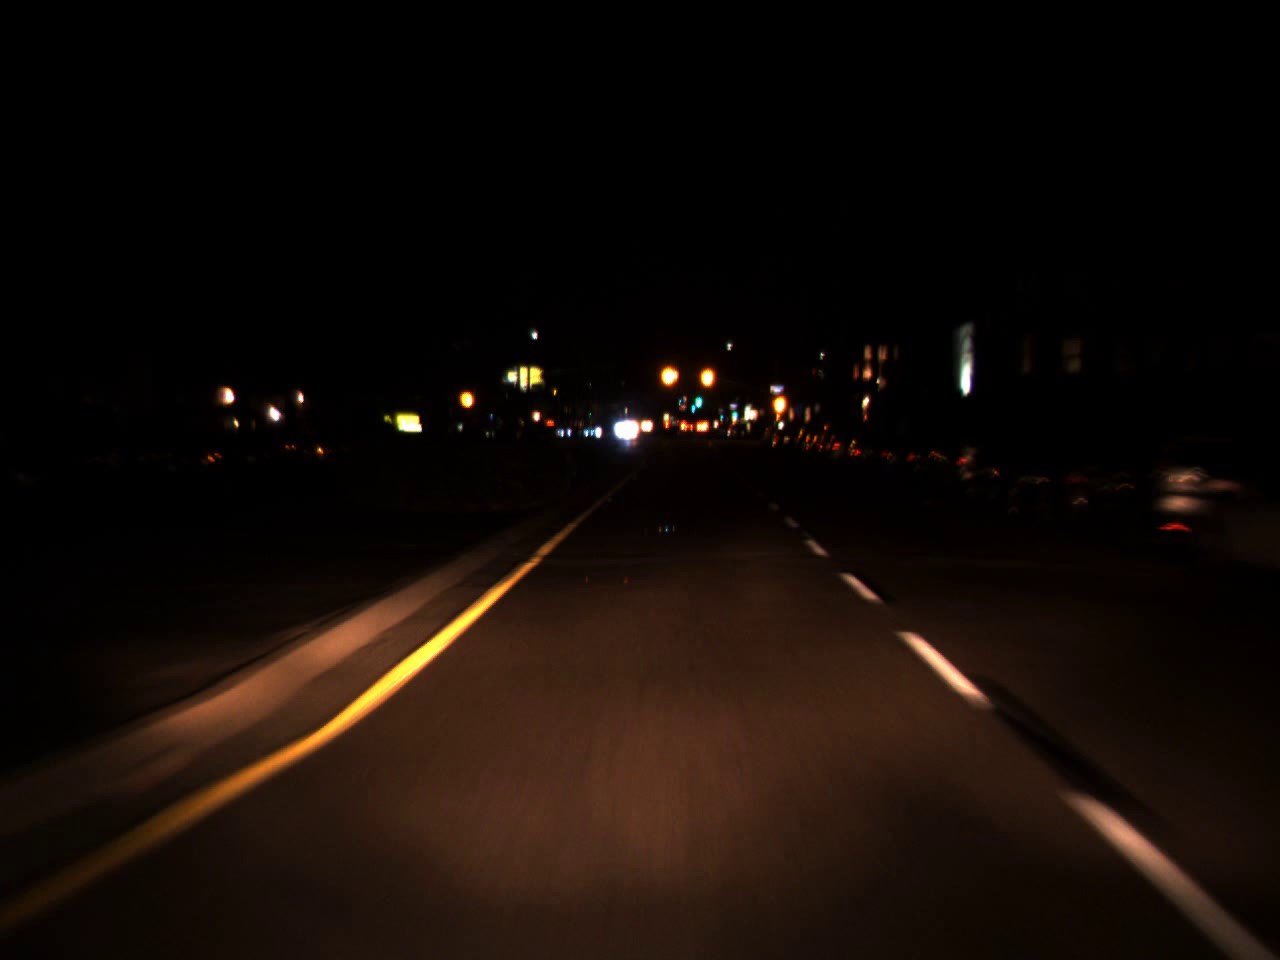go: (693, 389, 703, 407), (689, 396, 698, 411), (731, 404, 738, 416)
warning: (657, 351, 679, 398), (697, 354, 716, 399), (769, 385, 788, 422), (457, 382, 475, 412)
